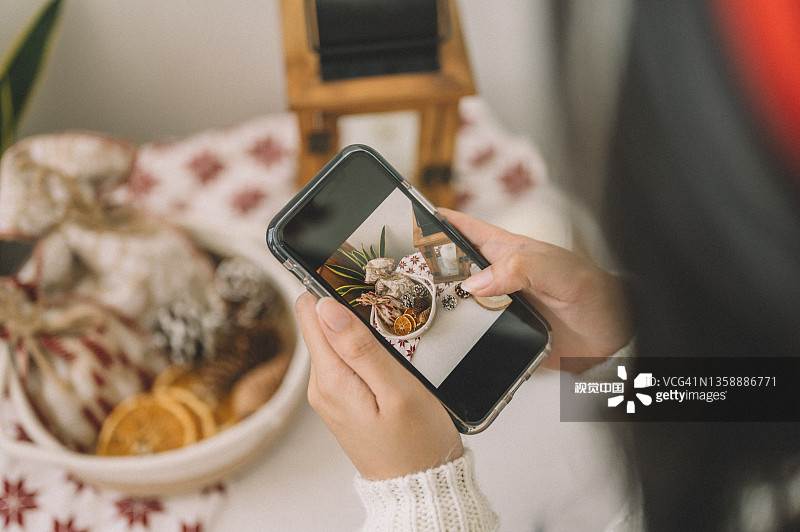taking photos: (264, 124, 642, 494)
